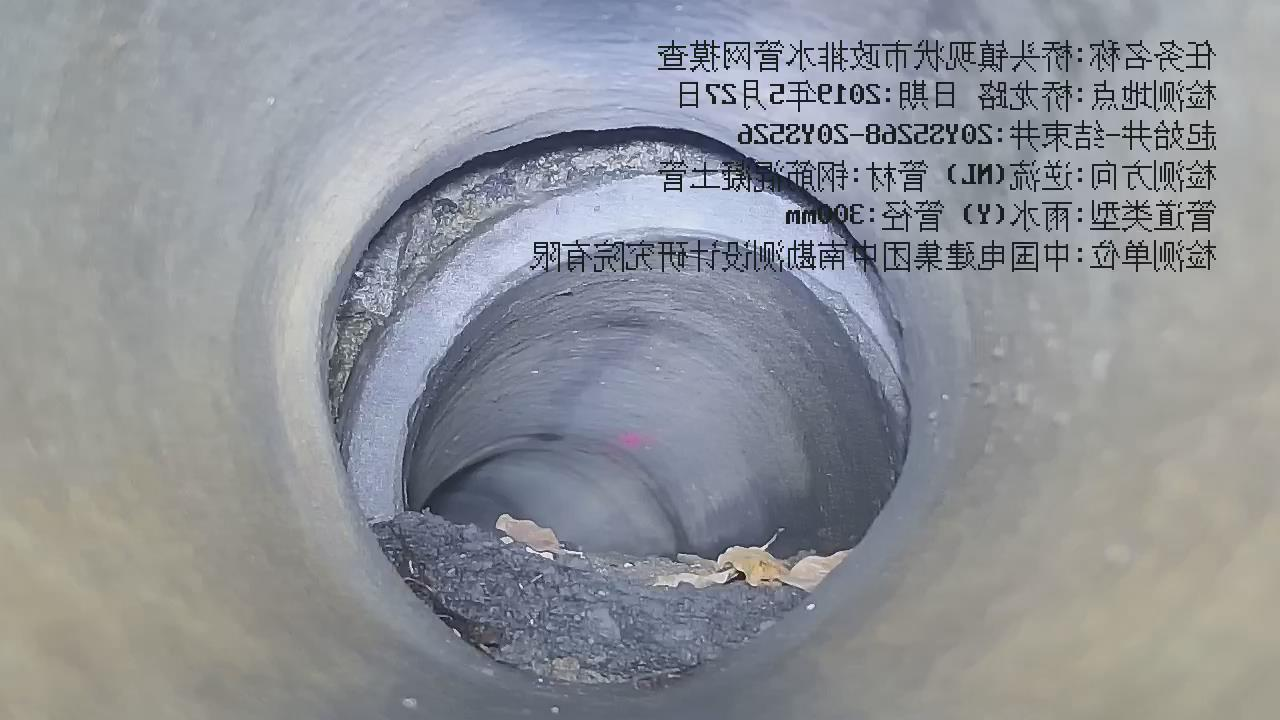CJ: (373, 512, 848, 684)
CKTJ: (323, 127, 908, 517)
